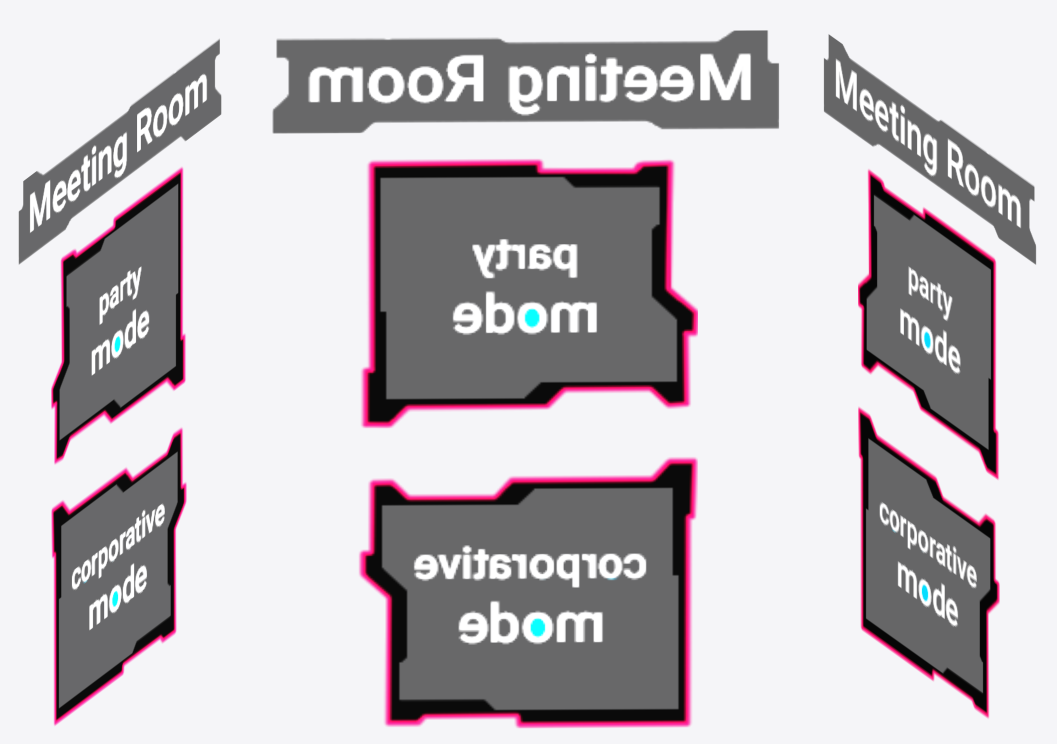
File: modeButtons2.glb
3 renders of one model, left to right at view 1: azimuth 30°, elevation 25°; view 2: azimuth 150°, elevation 25°; view 3: azimuth 270°, elevation 25°, orthographic. The views are drawn at different scales.
Parts seen in each view (by area): view 1: p00_buttons_meetingroom; view 2: p00_buttons_meetingroom; view 3: p00_buttons_meetingroom.
Boxes of the visible parts, x1=… form: p00_buttons_meetingroom: x1=18, y1=39, x2=221, y2=725; p00_buttons_meetingroom: x1=272, y1=30, x2=779, y2=728; p00_buttons_meetingroom: x1=823, y1=34, x2=1035, y2=717.
Size of what is drawn, in the model's own units: 0.9807 by 1.68 by 0.5814.
Materials: 1 (1 with a texture image).
